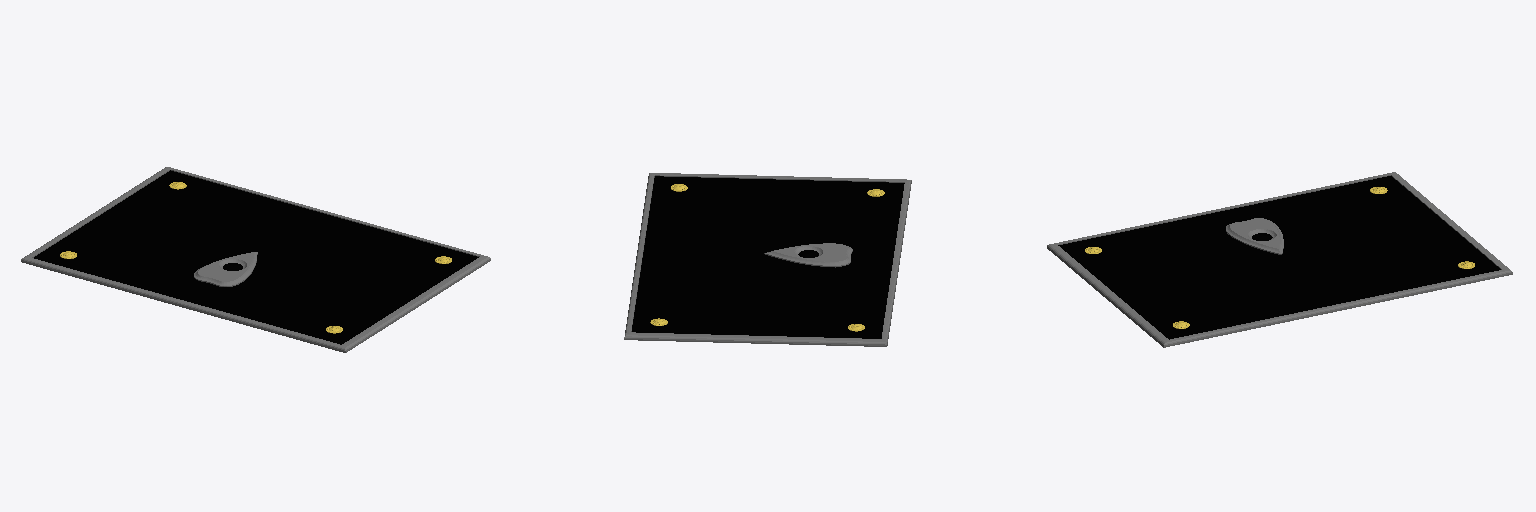
Rendered from Ouija_Board_01.obj.
3 renders of one model, left to right at view 1: azimuth 30°, elevation 25°; view 2: azimuth 150°, elevation 25°; view 3: azimuth 270°, elevation 25°, orthographic.
Parts seen in each view (by area): view 1: Ouija_Board_glass, Ouija_Board, Ouija_Board_pointer; view 2: Ouija_Board_glass, Ouija_Board, Ouija_Board_pointer; view 3: Ouija_Board_glass, Ouija_Board, Ouija_Board_pointer.
Part boxes in pixels (bbox=[...]): Ouija_Board_glass: bbox=[34, 170, 478, 344]; Ouija_Board: bbox=[21, 167, 490, 352]; Ouija_Board_pointer: bbox=[194, 252, 257, 286]; Ouija_Board_glass: bbox=[632, 176, 904, 338]; Ouija_Board: bbox=[624, 173, 911, 346]; Ouija_Board_pointer: bbox=[764, 243, 852, 267]; Ouija_Board_glass: bbox=[1058, 176, 1500, 339]; Ouija_Board: bbox=[1047, 172, 1512, 347]; Ouija_Board_pointer: bbox=[1226, 218, 1283, 254].
Size of the model in its own units: 61.91 by 1.78 by 70.54.